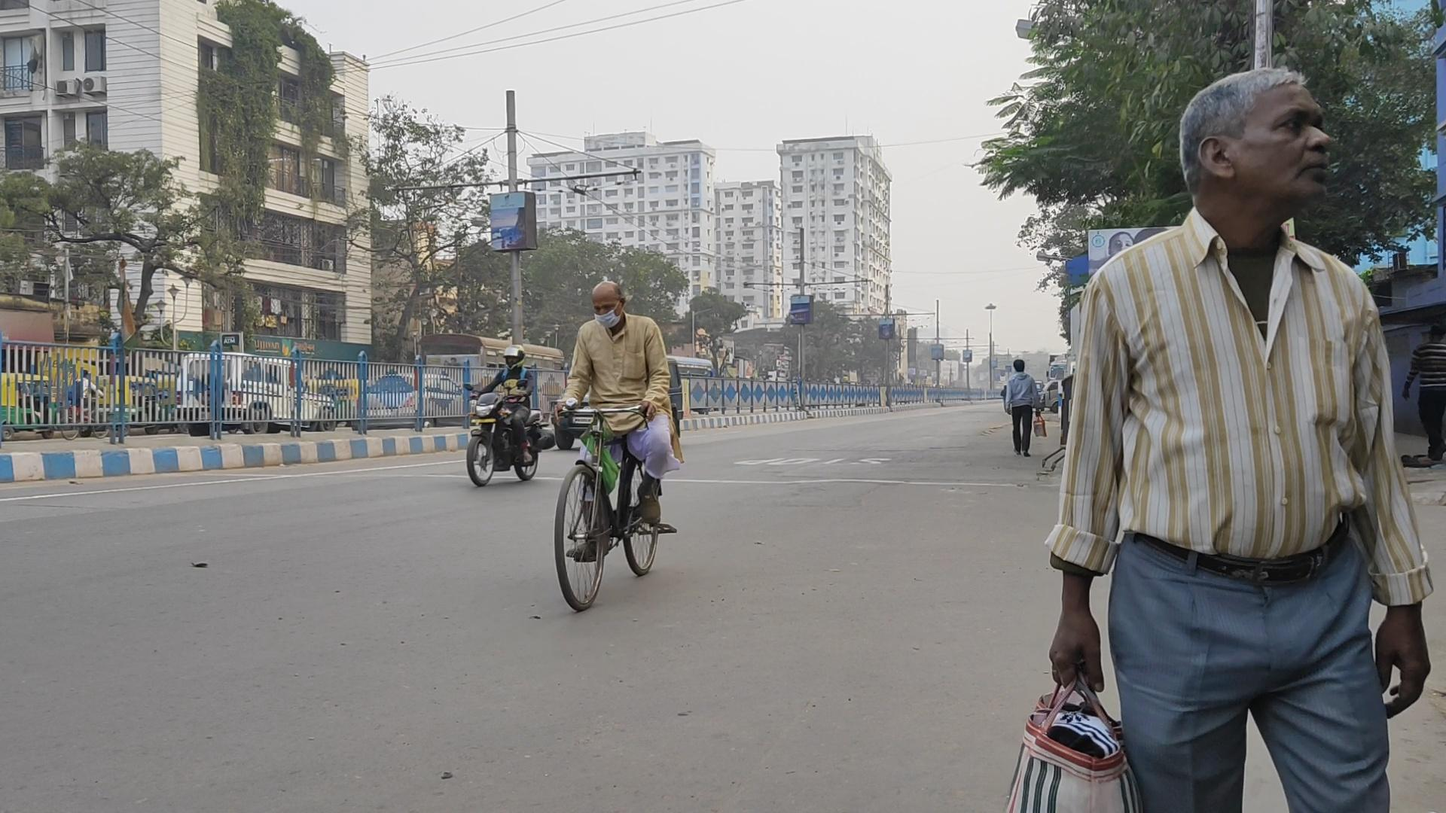bike: (553, 280, 677, 612), (463, 345, 545, 487)
car: (549, 354, 684, 451)
